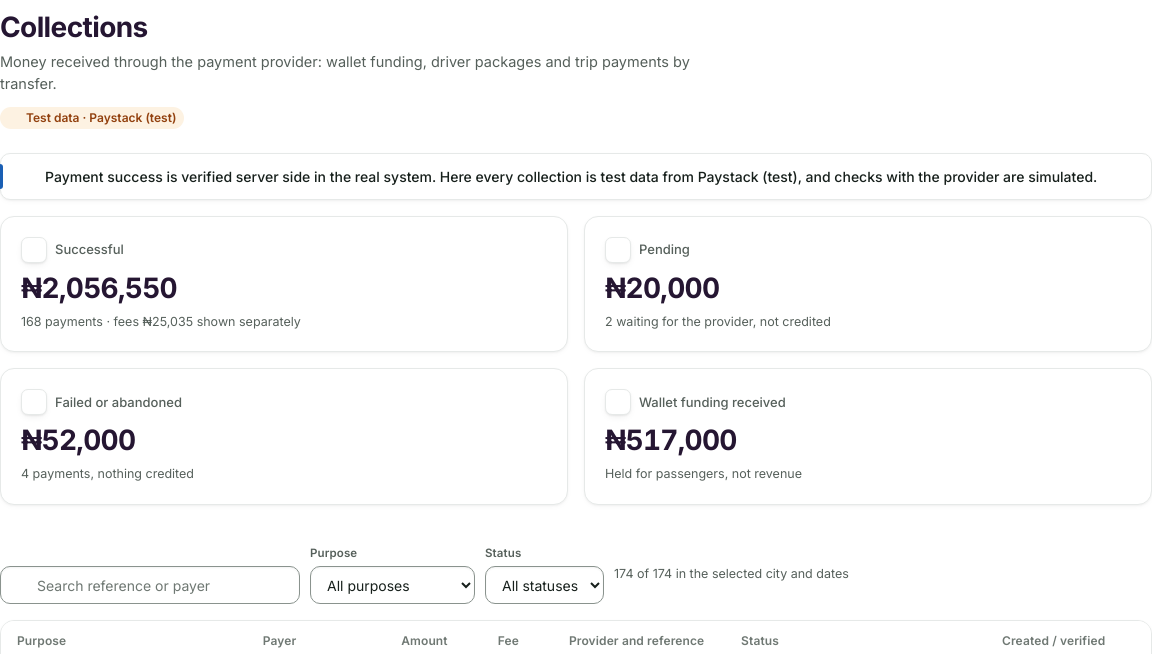
Test case: finance screens › auditor sees no finance actions on a pending collection
Click the text "Pending": (659, 250) [605, 236, 714, 262]
(page scrolled)
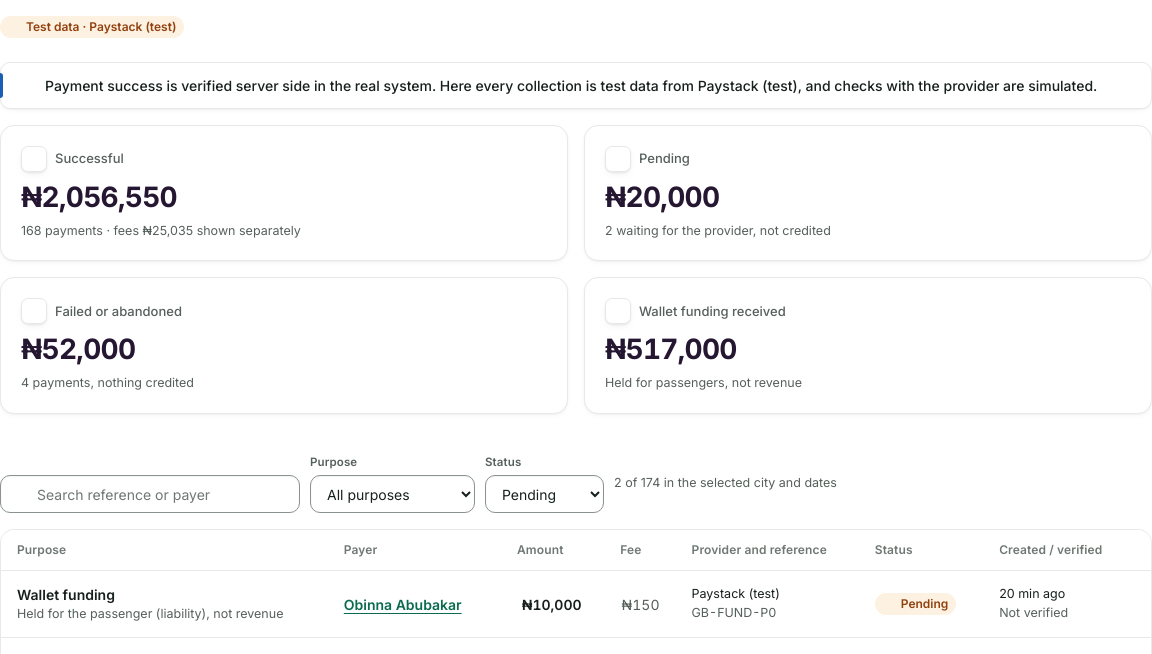
Click the text "Not verified": (576, 605) [1, 571, 1151, 638]
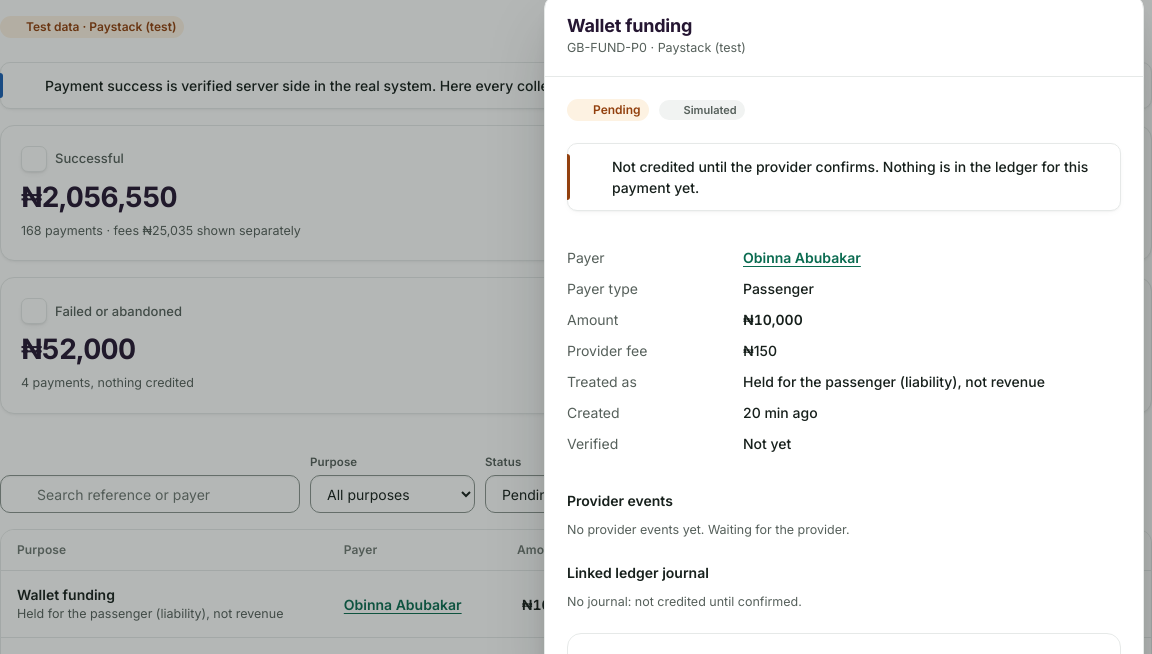
Expected: the text "Not credited until the provider confirms" is shown, [612, 158, 1088, 196]
